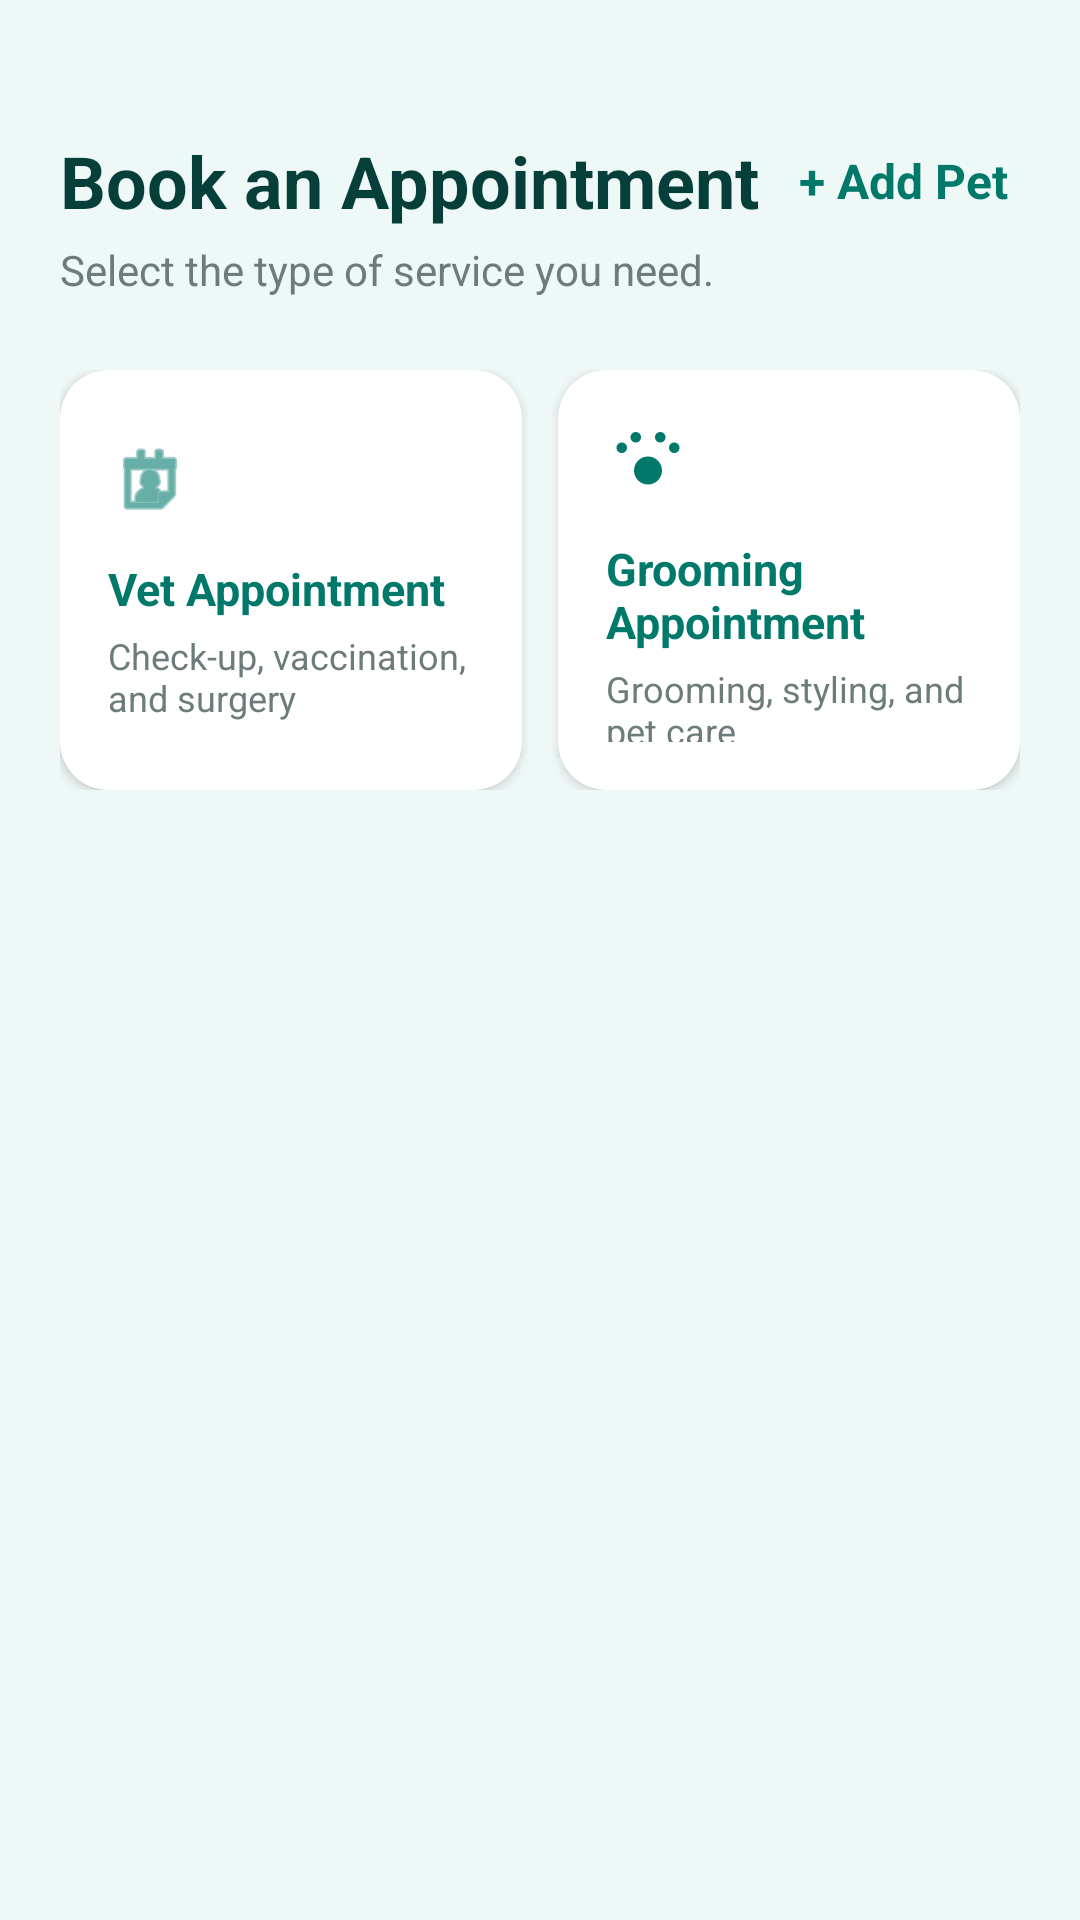

Point at icon controls on the screen. Image size 1080 × 1920, points as (x,y).
calendar: (150,479)
paw: (648,458)
